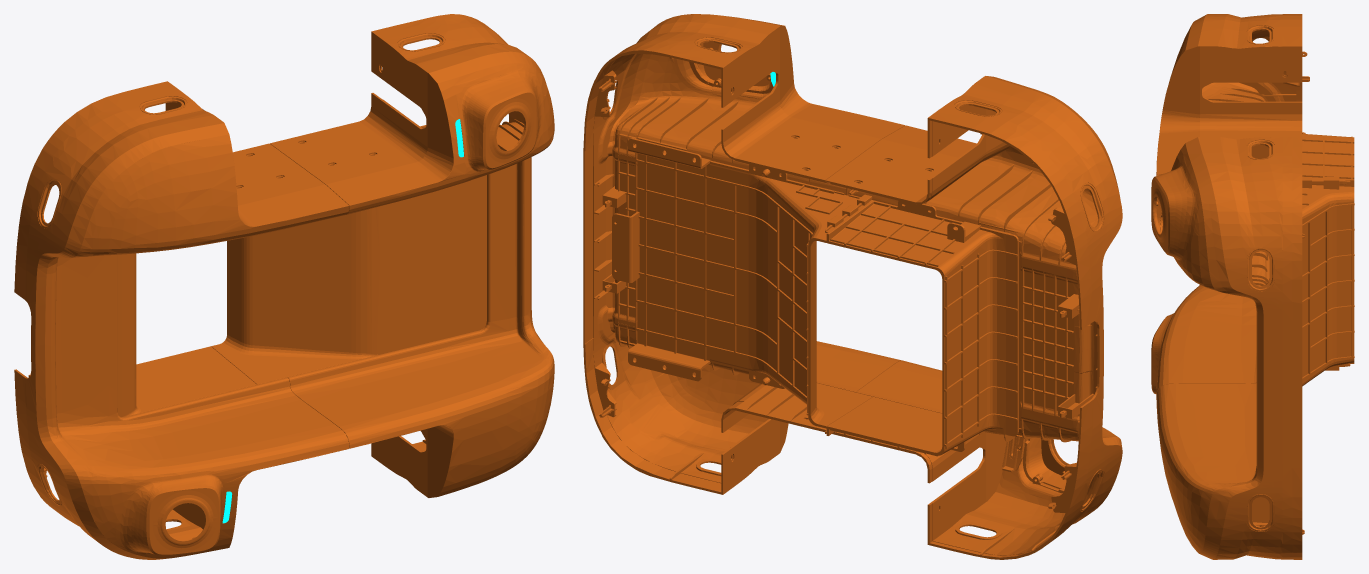
File: shell_default.glb
The picture shows the model from 3 angles, left to right: view 1: azimuth 30°, elevation 25°; view 2: azimuth 150°, elevation 25°; view 3: azimuth 270°, elevation 25°; orthographic projection. The views are drawn at different scales.
Visible parts, largest first — view 1: front shell, back shell, back inner shell, front inner shell; view 2: front shell, back shell, back inner shell, front inner shell; view 3: back shell, front shell, back inner shell, front inner shell.
Boxes of the visible parts, x1,y1,x2,y2 form: front shell: (14,81,348,559); back shell: (270,14,554,497); back inner shell: (211,125,486,384); front inner shell: (117,253,256,417); front shell: (825,76,1122,559); back shell: (583,14,905,494); back inner shell: (612,138,872,433); front inner shell: (825,200,1018,456); back shell: (1151,137,1304,559); front shell: (1151,14,1309,395); back inner shell: (1302,177,1354,386); front inner shell: (1302,133,1354,366).
Size of the model in its own units: 0.6696 by 0.5477 by 0.2606.
